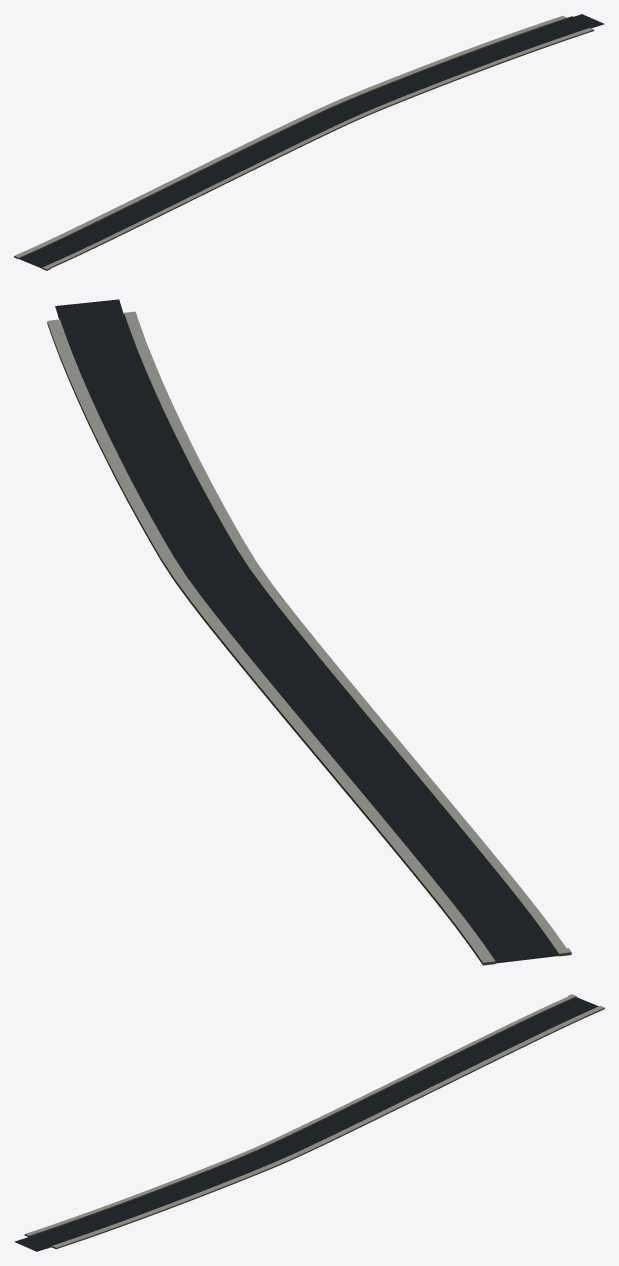
The model's file is SM_Mapa_Road_1.fbx.
3 views of the same model, one above another, from view 1: azimuth 90°, elevation 25°; view 2: azimuth 150°, elevation 25°; view 3: azimuth 270°, elevation 25° (orthographic). The views are drawn at different scales.
Visible parts, largest first — view 1: SM_Mapa_Road_1; view 2: SM_Mapa_Road_1; view 3: SM_Mapa_Road_1.
Part boxes in pixels (x1=…): SM_Mapa_Road_1: x1=14, y1=14, x2=604, y2=270; SM_Mapa_Road_1: x1=47, y1=299, x2=571, y2=965; SM_Mapa_Road_1: x1=14, y1=994, x2=604, y2=1251.
Bounding box in the file's own units: 78.65 × 76.54 × 0.2.
